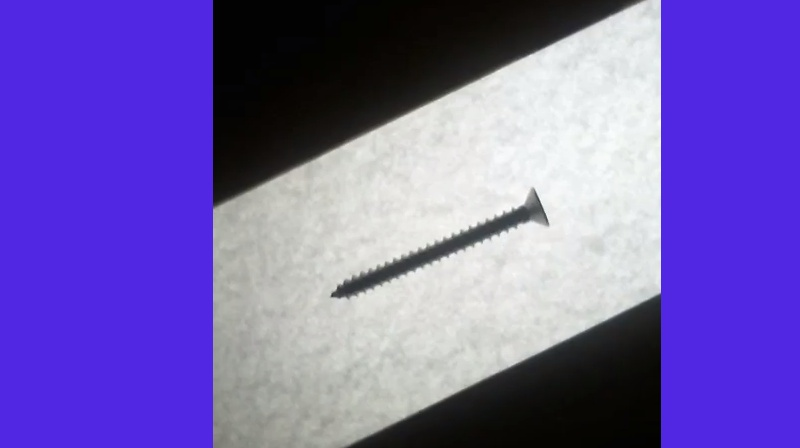S002: (328, 181, 553, 301)
